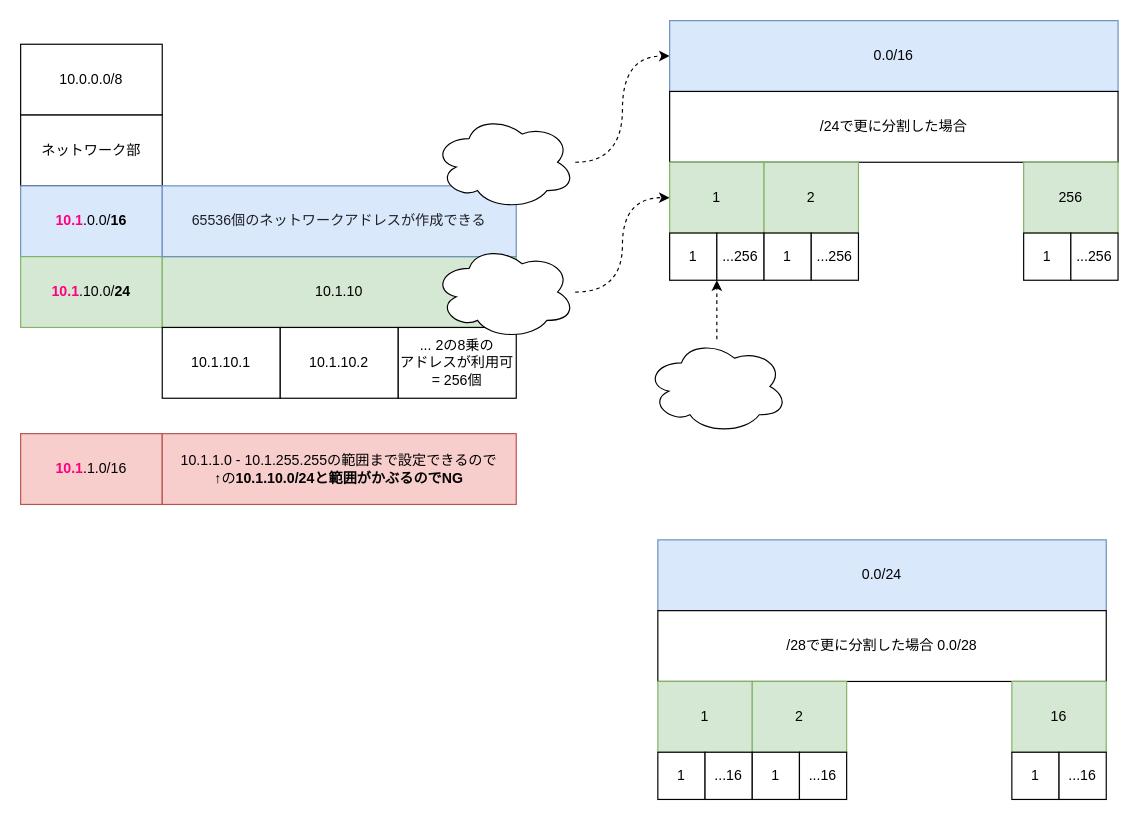
The diagram is 1139 pixels wide and 820 high, and some of its shapes have lost their labels. Each missing label, with the box of its shape:
VPC全体: (432, 114, 575, 209)
サブネット: (432, 244, 575, 339)
利用できる IPアドレス: (645, 338, 788, 434)
